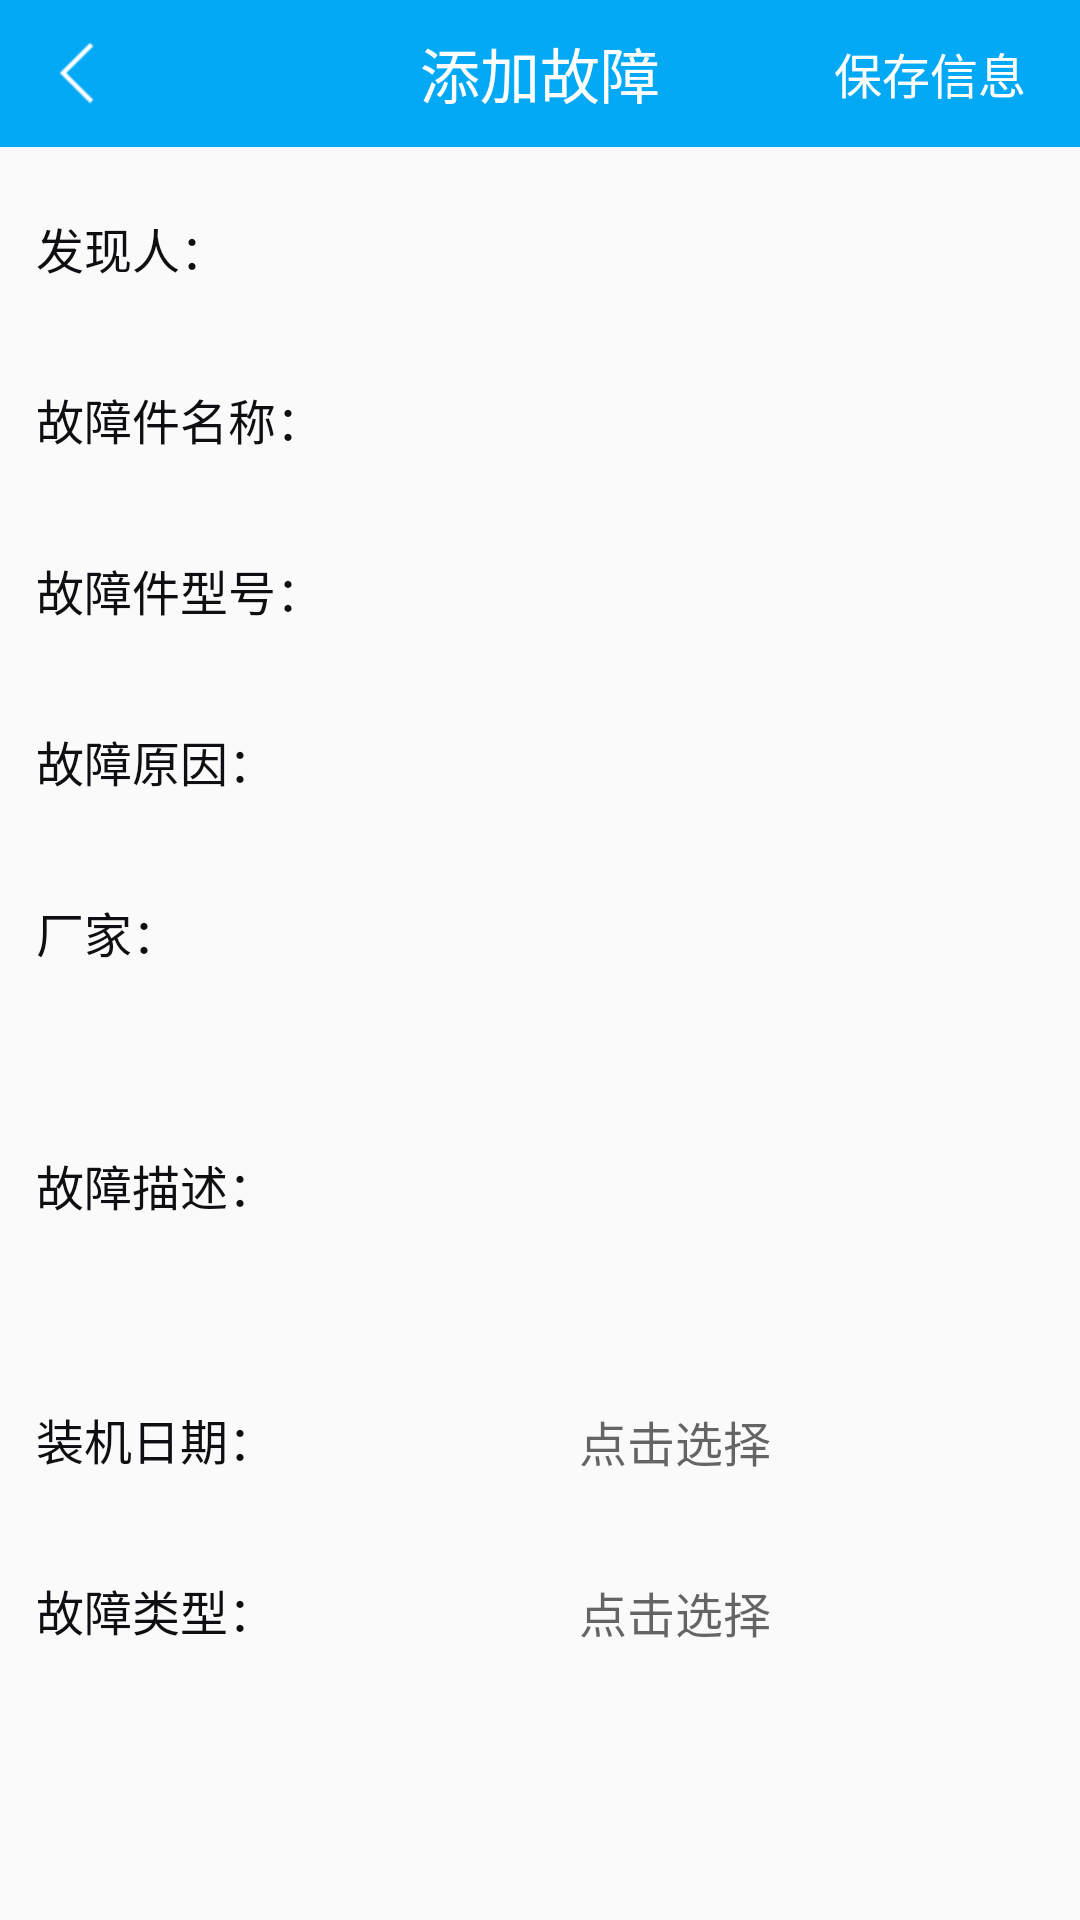

Icon click points for this 1080w x 1920h phone screenshot, format (x,y):
back: (76,73)
